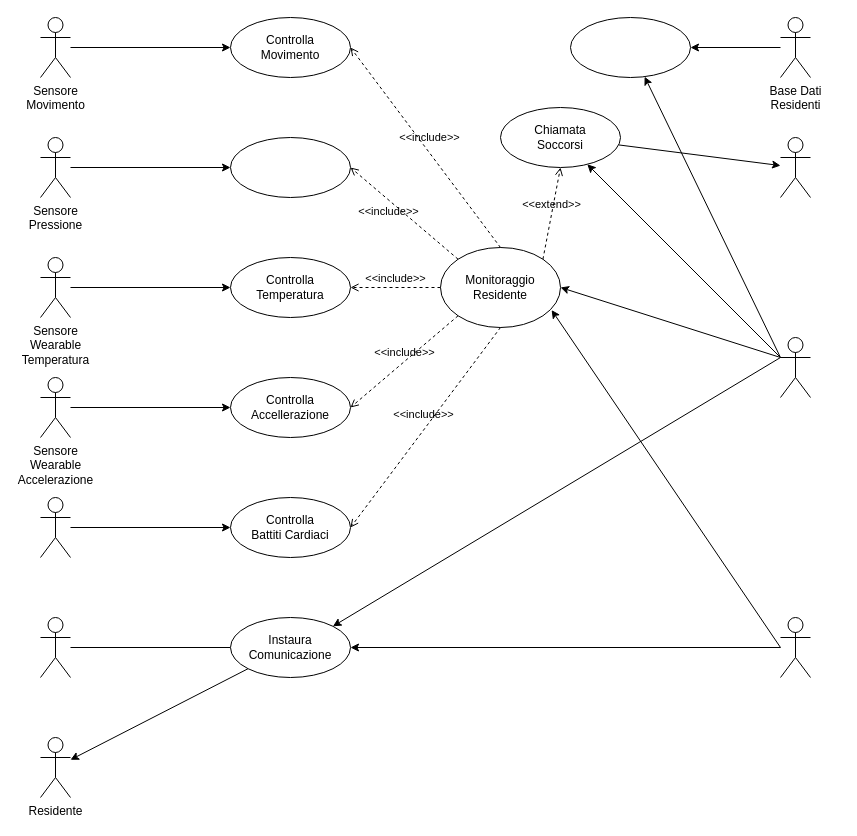
Image size: 857x836. Some labels were removed from this diagram. The shapes that lost their labels are listed below. From the top down, each one's box as (x1, y1, x2, y2) in pixels, then its label:
(570, 16, 690, 78): Controllo Storico
(230, 136, 350, 198): Controlla Presenza nel Letto
(780, 136, 810, 198): Servizio Pronto Soccorso
(780, 336, 810, 398): Operatore Sanitario
(40, 496, 70, 558): Sensore Wearable Battiti Cardiaci
(40, 616, 70, 678): Sistema Audio
(780, 616, 810, 678): Famigliare
